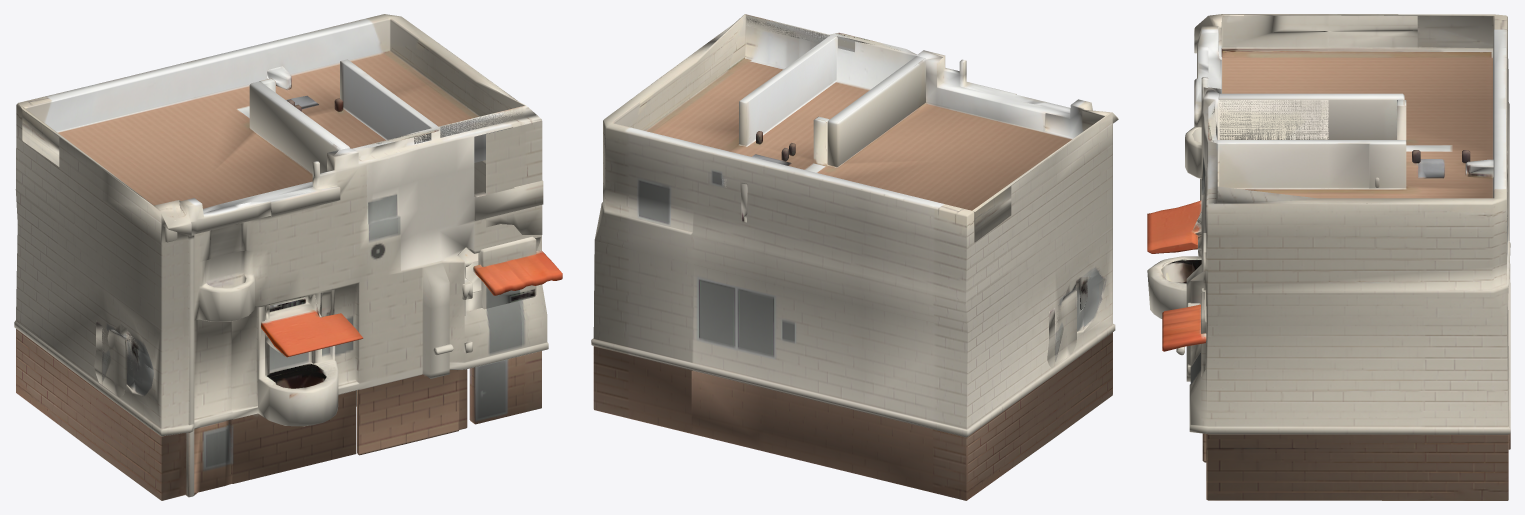
Rendered from bld_406278384.glb.
The picture shows the model from 3 angles, left to right: view 1: azimuth 30°, elevation 25°; view 2: azimuth 150°, elevation 25°; view 3: azimuth 270°, elevation 25°; orthographic projection. The views are drawn at different scales.
Size of the model in its own units: 1.89 by 1.48 by 1.51.
Materials: 1 (1 with a texture image).
